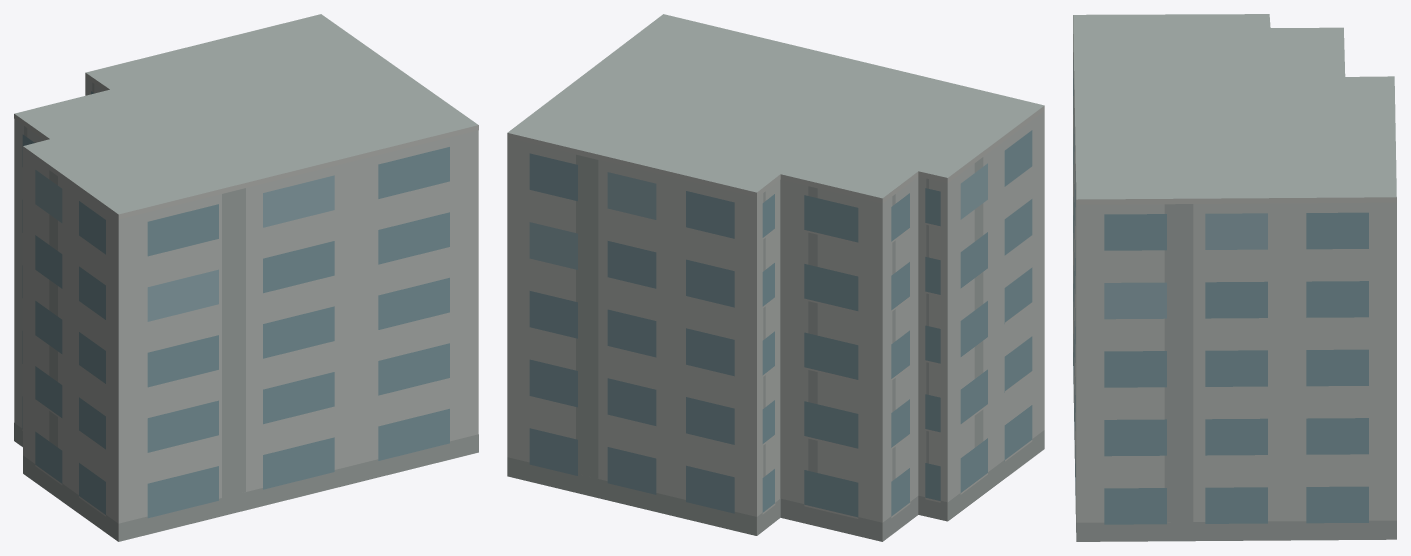
Rendered from survey-upis-32465692.glb.
3 renders of one model, left to right at view 1: azimuth 30°, elevation 25°; view 2: azimuth 150°, elevation 25°; view 3: azimuth 270°, elevation 25°, orthographic. The views are drawn at different scales.
Visible parts, largest first — view 1: survey-upis-32465692.tmp; view 2: survey-upis-32465692.tmp; view 3: survey-upis-32465692.tmp.
Part boxes in pixels (<box>): survey-upis-32465692.tmp: <box>14,14,478,541</box>; survey-upis-32465692.tmp: <box>507,14,1044,541</box>; survey-upis-32465692.tmp: <box>1073,14,1396,541</box>.
Size of the model in its own units: 18.07 by 15.55 by 13.33.
